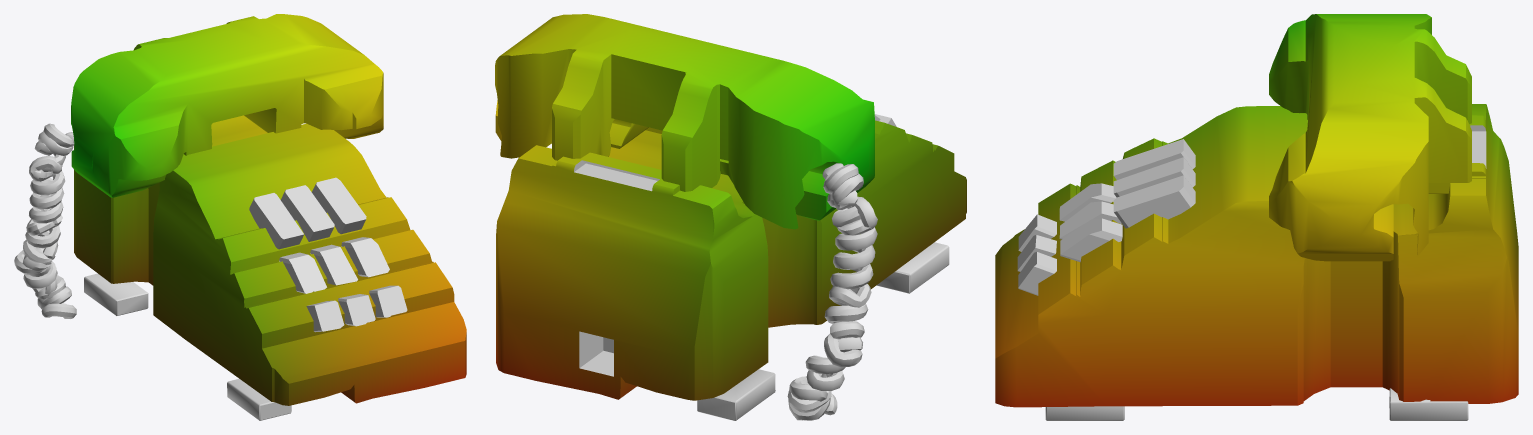
File: telephone_desk_set.glb
The picture shows the model from 3 angles, left to right: view 1: azimuth 30°, elevation 25°; view 2: azimuth 150°, elevation 25°; view 3: azimuth 270°, elevation 25°; orthographic projection. The views are drawn at different scales.
Parts seen in each view (by area): view 1: telephone_desk_set; view 2: telephone_desk_set; view 3: telephone_desk_set.
Part boxes in pixels (x1,y1,x2,y2): telephone_desk_set: [14, 14, 466, 420]; telephone_desk_set: [495, 14, 966, 420]; telephone_desk_set: [995, 14, 1518, 420].
Bounding box in the file's own units: 0.185 × 0.1435 × 0.2176.
